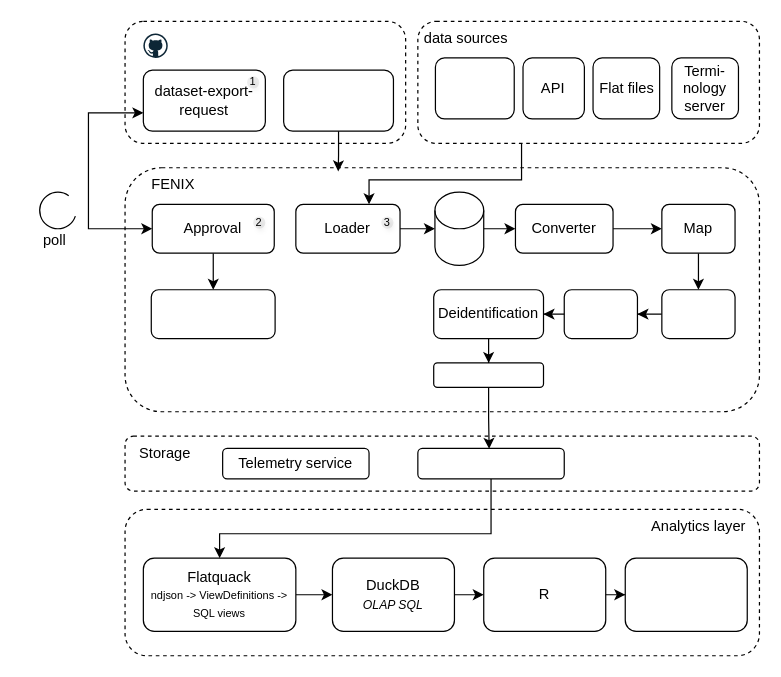
This 781x677 diagram has some shape labels left out. The shapes that lost their labels are listed below. From the top down, each one's centre as x and y in pixels, then its label:
At point 337,100: "SIM on FHIR FHIR Profiles".
At point 474,88: "SQL Database".
At point 212,314: "API Interface".
At point 600,314: "Filter".
At point 698,314: "Validate".
At point 488,374: "FHIR ndjson".
At point 490,463: "Azure Blob Storage".
At point 685,594: "Dashboard Quatro".
